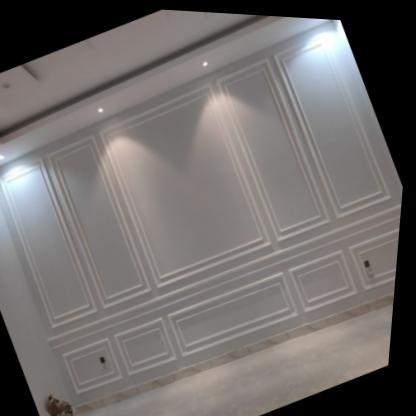Futec frame: (78, 71, 322, 372), (196, 50, 389, 338), (204, 20, 413, 252), (26, 121, 206, 390), (255, 18, 416, 302), (0, 144, 149, 405), (62, 254, 307, 412), (0, 125, 170, 336)
